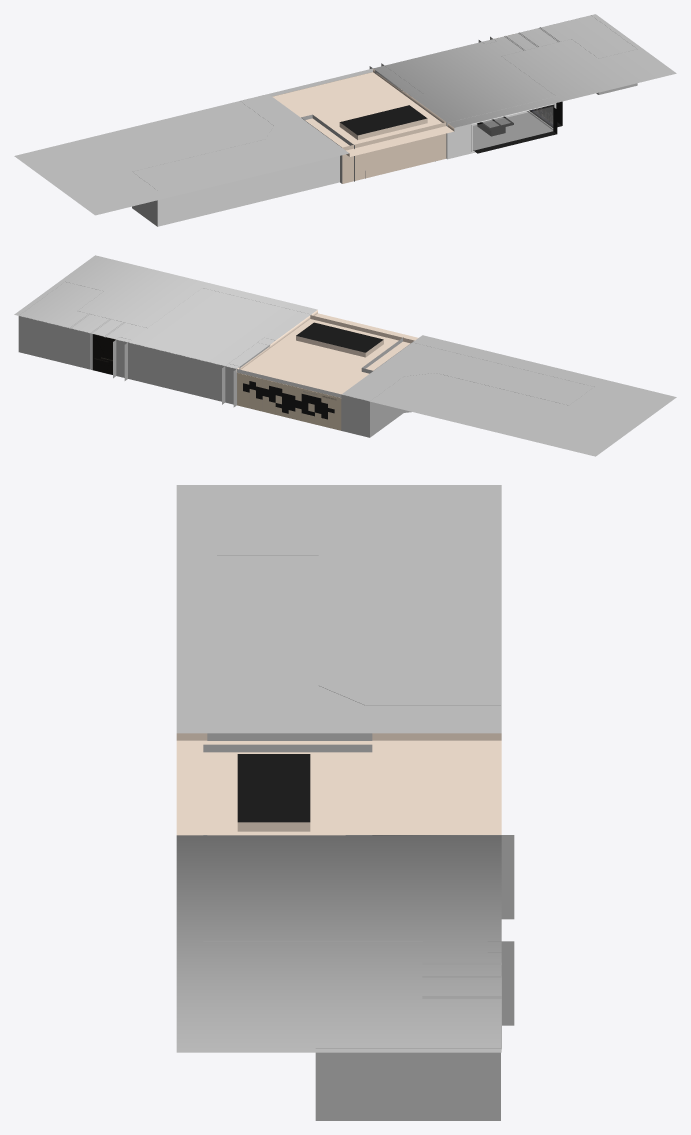
File: salaBasket.FBX
The picture shows the model from 3 angles, top to bottom: view 1: azimuth 30°, elevation 25°; view 2: azimuth 150°, elevation 25°; view 3: azimuth 270°, elevation 25°; orthographic projection. The views are drawn at different scales.
Parts seen in each view (by area): view 1: salaBasket; view 2: salaBasket, videoWall_lluviaGoles; view 3: salaBasket.
Part boxes in pixels (x1,y1,x2,y2): salaBasket: (14, 14, 676, 226); salaBasket: (14, 255, 676, 456); videoWall_lluviaGoles: (243, 381, 334, 419); salaBasket: (176, 485, 514, 1120).
Size of what is drawn, in the model's own units: 1970 by 122 by 496.
